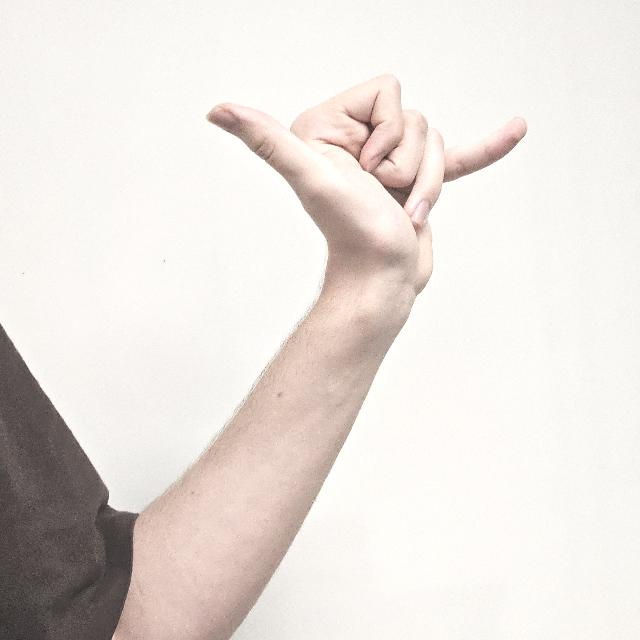Direita: (204, 66, 534, 318)
